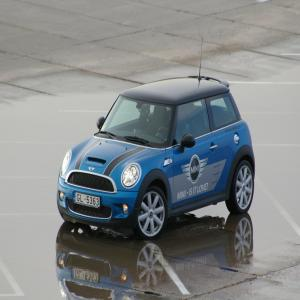Vehicle-registration-plate: (74, 193, 101, 209)
